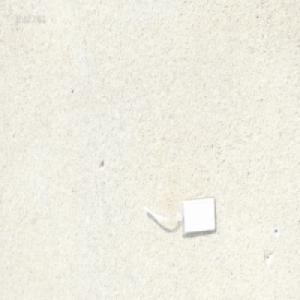LuggageTag: (143, 194, 216, 237)
